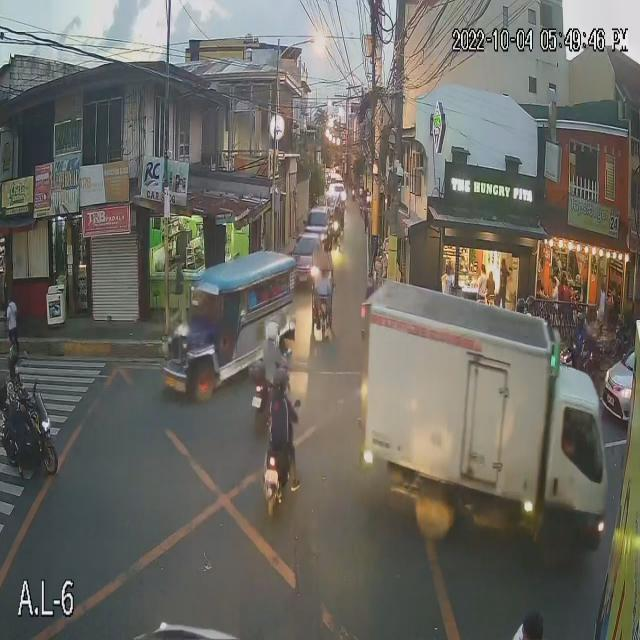helmet: (269, 366, 292, 400), (261, 318, 284, 343), (8, 350, 20, 380), (573, 314, 588, 333)
motorcycle: (0, 394, 60, 479), (257, 429, 304, 512), (244, 359, 286, 431), (557, 340, 603, 375)
rider: (0, 341, 35, 432), (254, 320, 287, 393), (268, 369, 292, 459), (574, 309, 591, 359)
